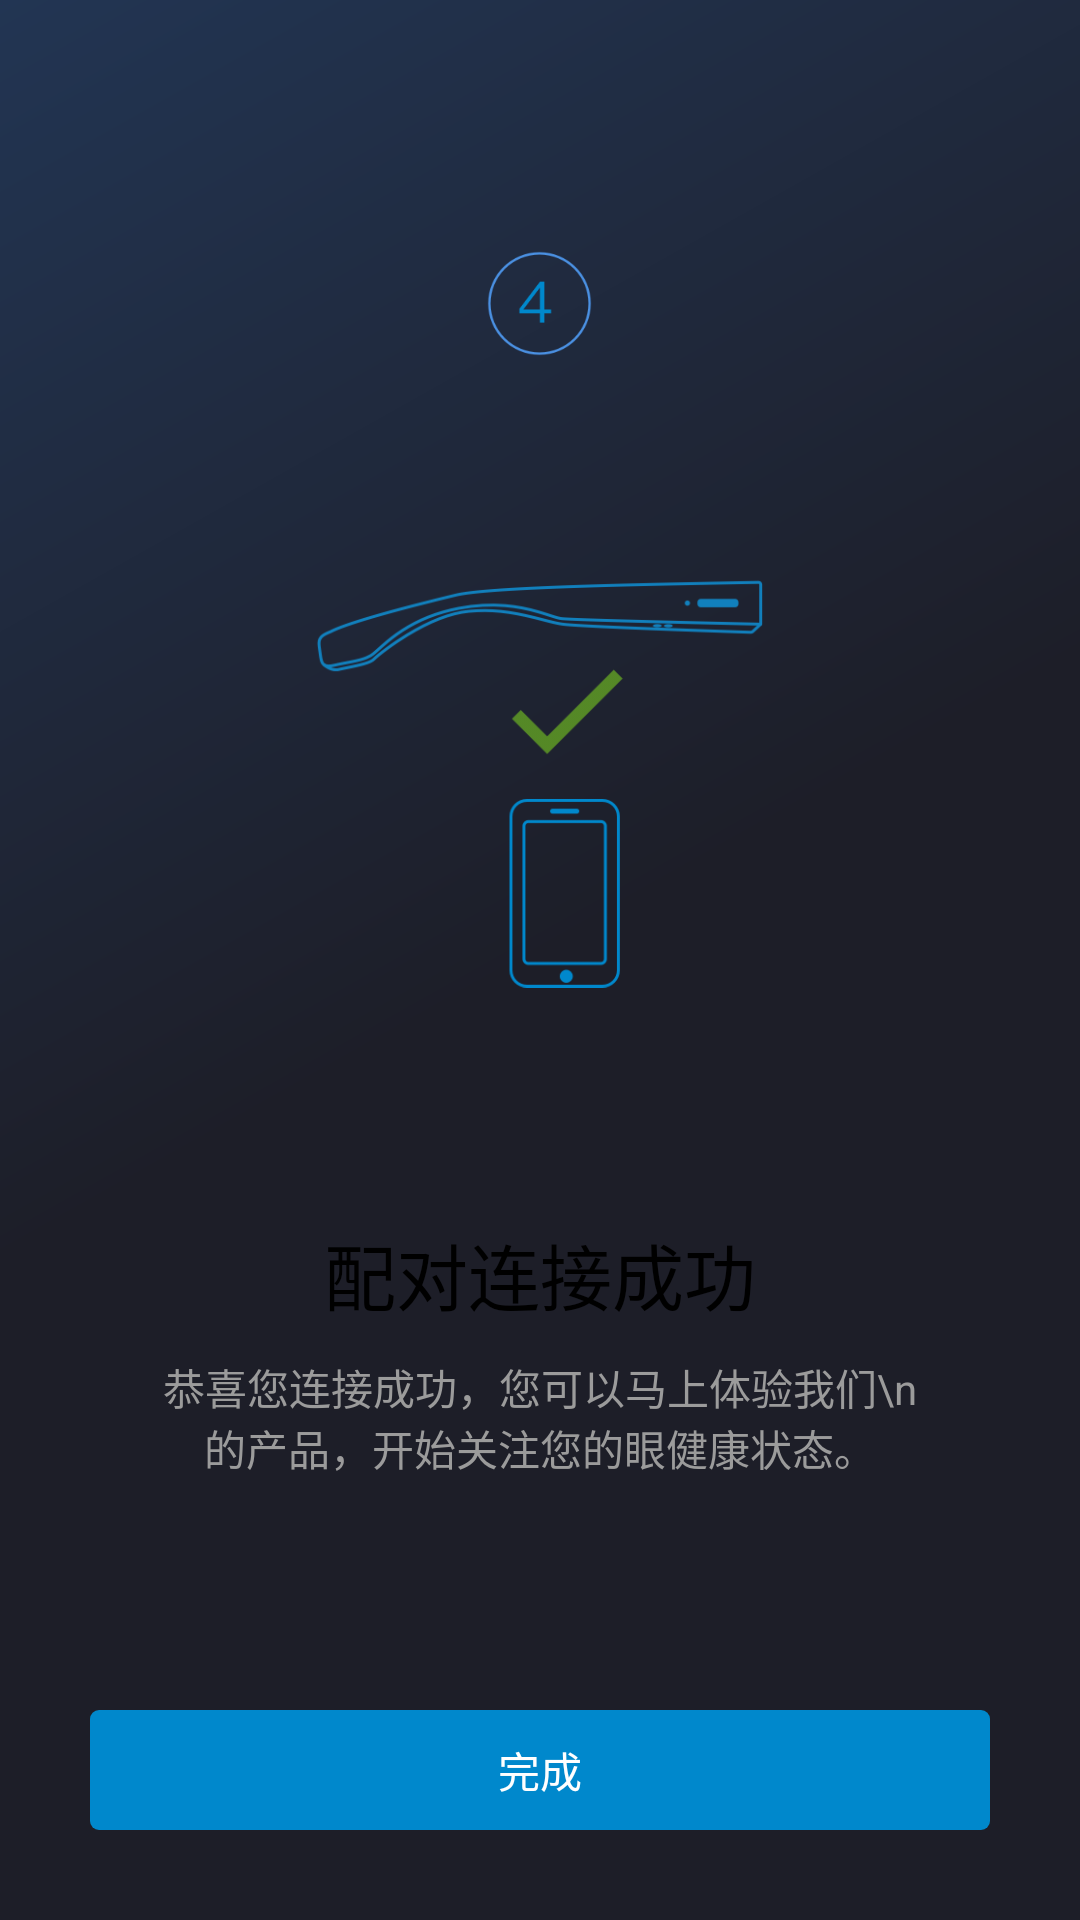

Icon click points for this 1080px x 1920px phone screenshot, format [x,y]:
guide num: [539,303]
